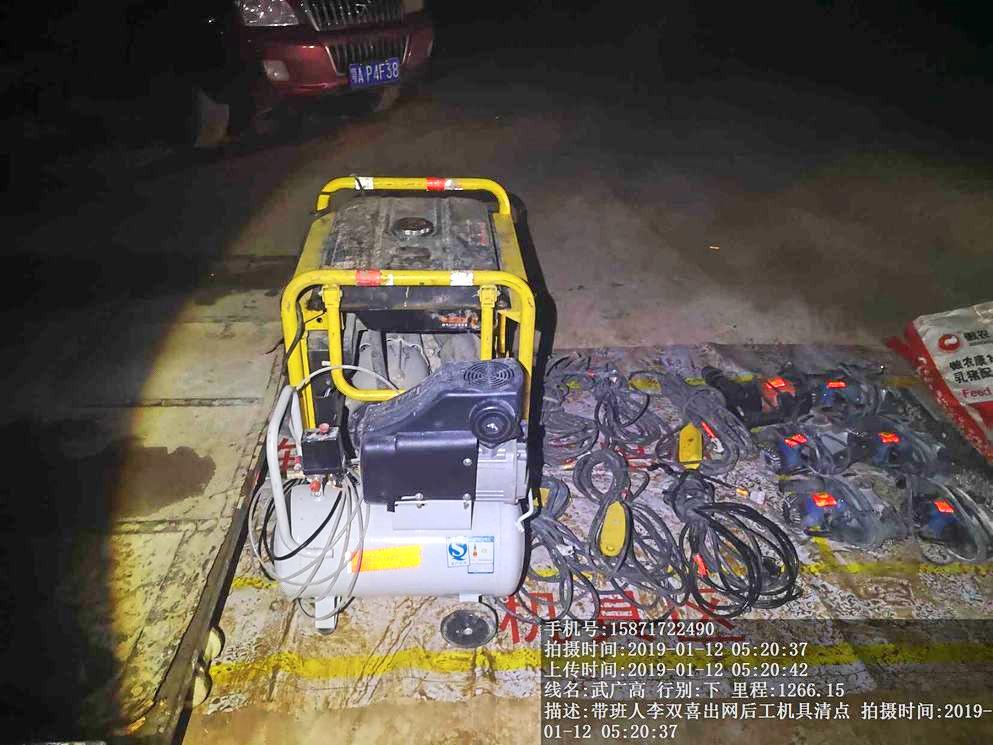DJ: (288, 186, 548, 359)
DZ: (708, 341, 815, 416)
